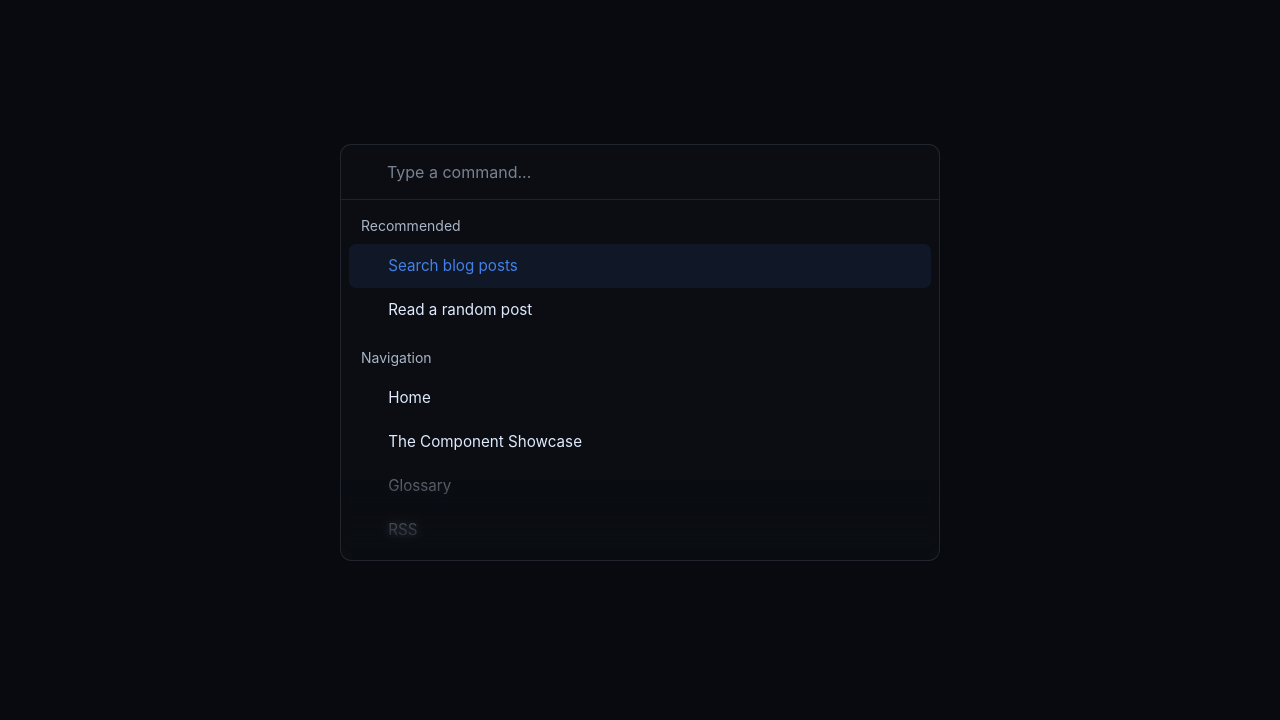
Test: CommandPalette › turns into the search page rather than running and leaving
The width and height of the screenshot is (1280, 720).
Click the option "Search blog posts" at (453, 266), box left=349, top=244, right=931, bottom=288
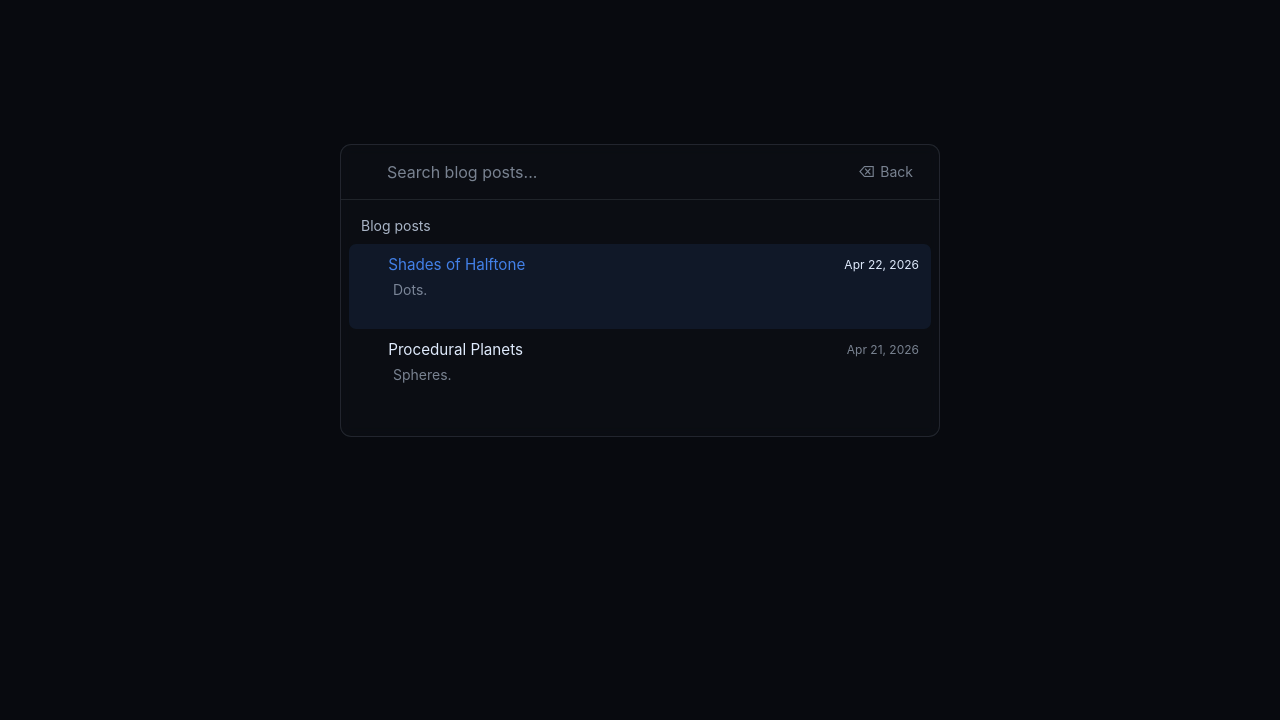
expect the text "Shades of Halftone" is shown: met, box left=388, top=254, right=525, bottom=276
